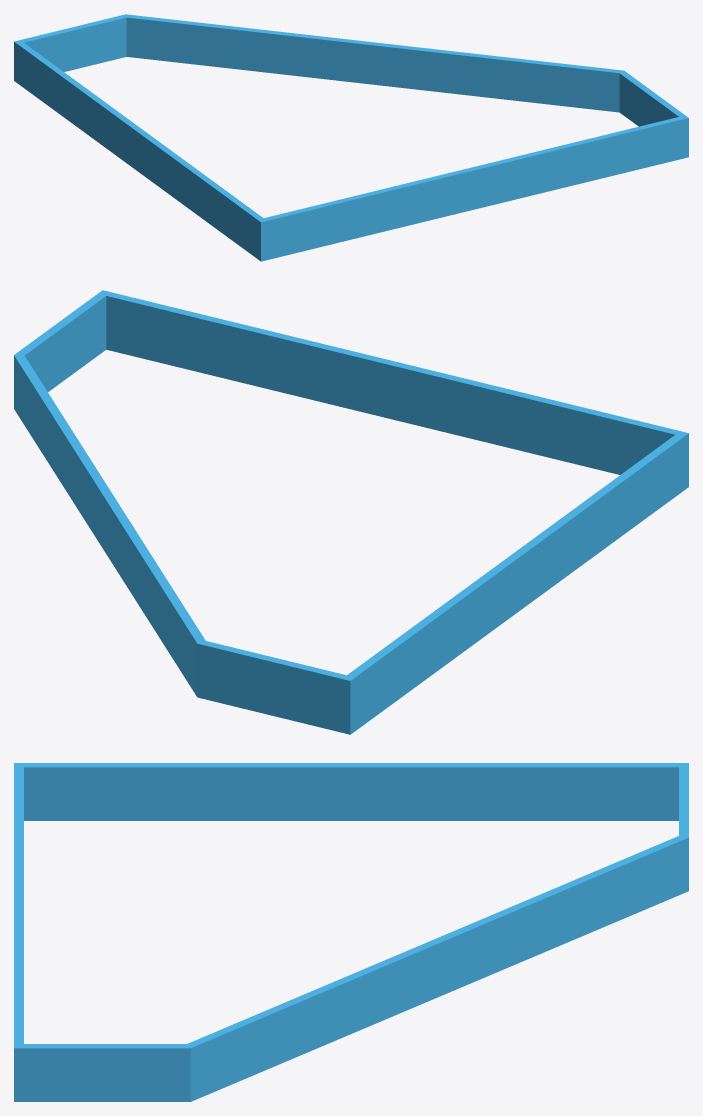
The model's file is background.dae.
The picture shows the model from 3 angles, top to bottom: view 1: azimuth 30°, elevation 25°; view 2: azimuth 150°, elevation 25°; view 3: azimuth 270°, elevation 25°; orthographic projection. The views are drawn at different scales.
Visible parts, largest first — view 1: harambe-wall; view 2: harambe-wall; view 3: harambe-wall.
Boxes of the visible parts, x1=… form: harambe-wall: x1=14, y1=14, x2=688, y2=261; harambe-wall: x1=14, y1=290, x2=688, y2=734; harambe-wall: x1=14, y1=763, x2=688, y2=1101.
Bounding box in the file's own units: 10.42 × 10.42 × 0.9144.
1 material, 1 textured.
